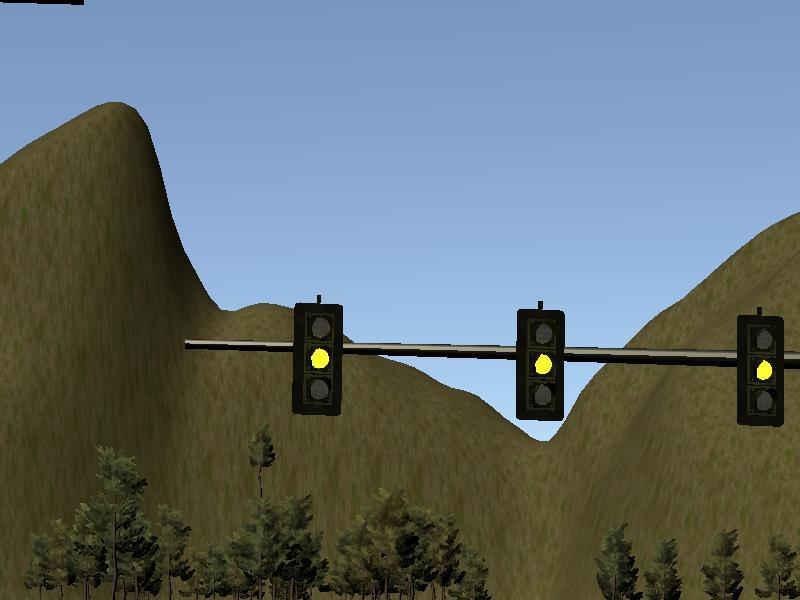Yellow: (515, 309, 566, 421), (293, 303, 343, 416), (736, 315, 785, 427)
